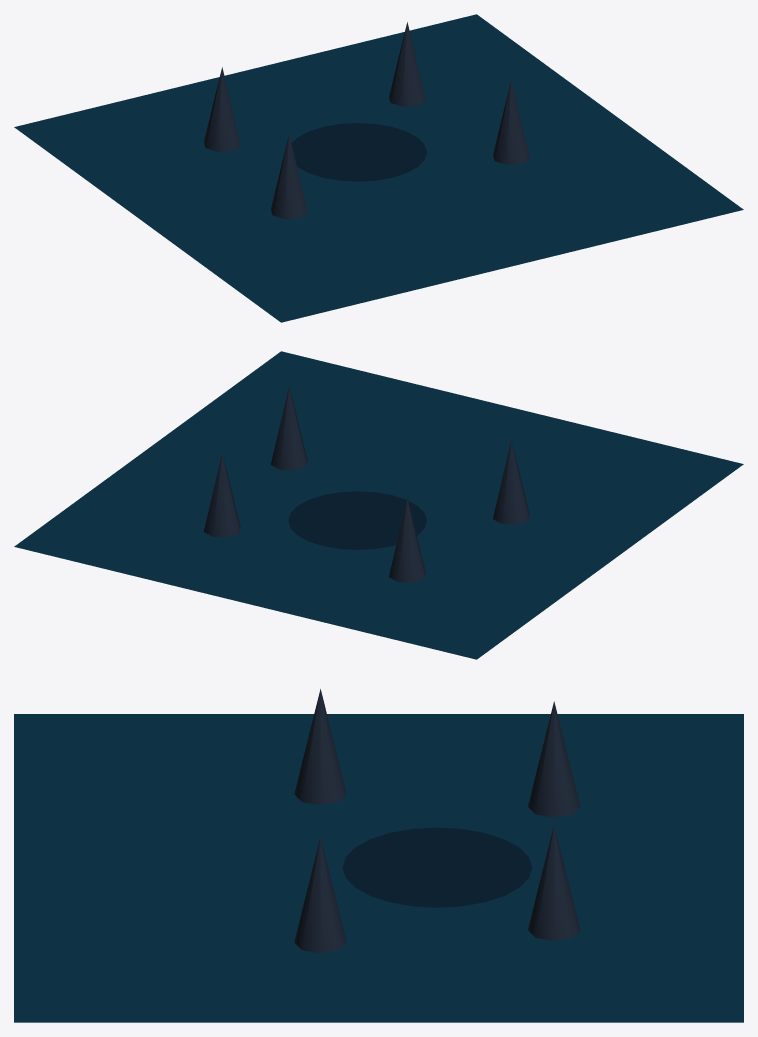
File: atl_07.glb
3 renders of one model, top to bottom at view 1: azimuth 30°, elevation 25°; view 2: azimuth 150°, elevation 25°; view 3: azimuth 270°, elevation 25°, orthographic. The views are drawn at different scales.
Parts seen in each view (by area): view 1: scenario_base_floor, ATL_07; view 2: scenario_base_floor, ATL_07; view 3: scenario_base_floor, ATL_07.
Boxes of the visible parts, bbox=[...] form: scenario_base_floor: bbox=[14, 14, 743, 322]; ATL_07: bbox=[204, 22, 529, 218]; scenario_base_floor: bbox=[14, 351, 743, 659]; ATL_07: bbox=[204, 386, 529, 582]; scenario_base_floor: bbox=[14, 714, 743, 1022]; ATL_07: bbox=[294, 689, 580, 953].
Size of the model in its own units: 50 by 8 by 50.
